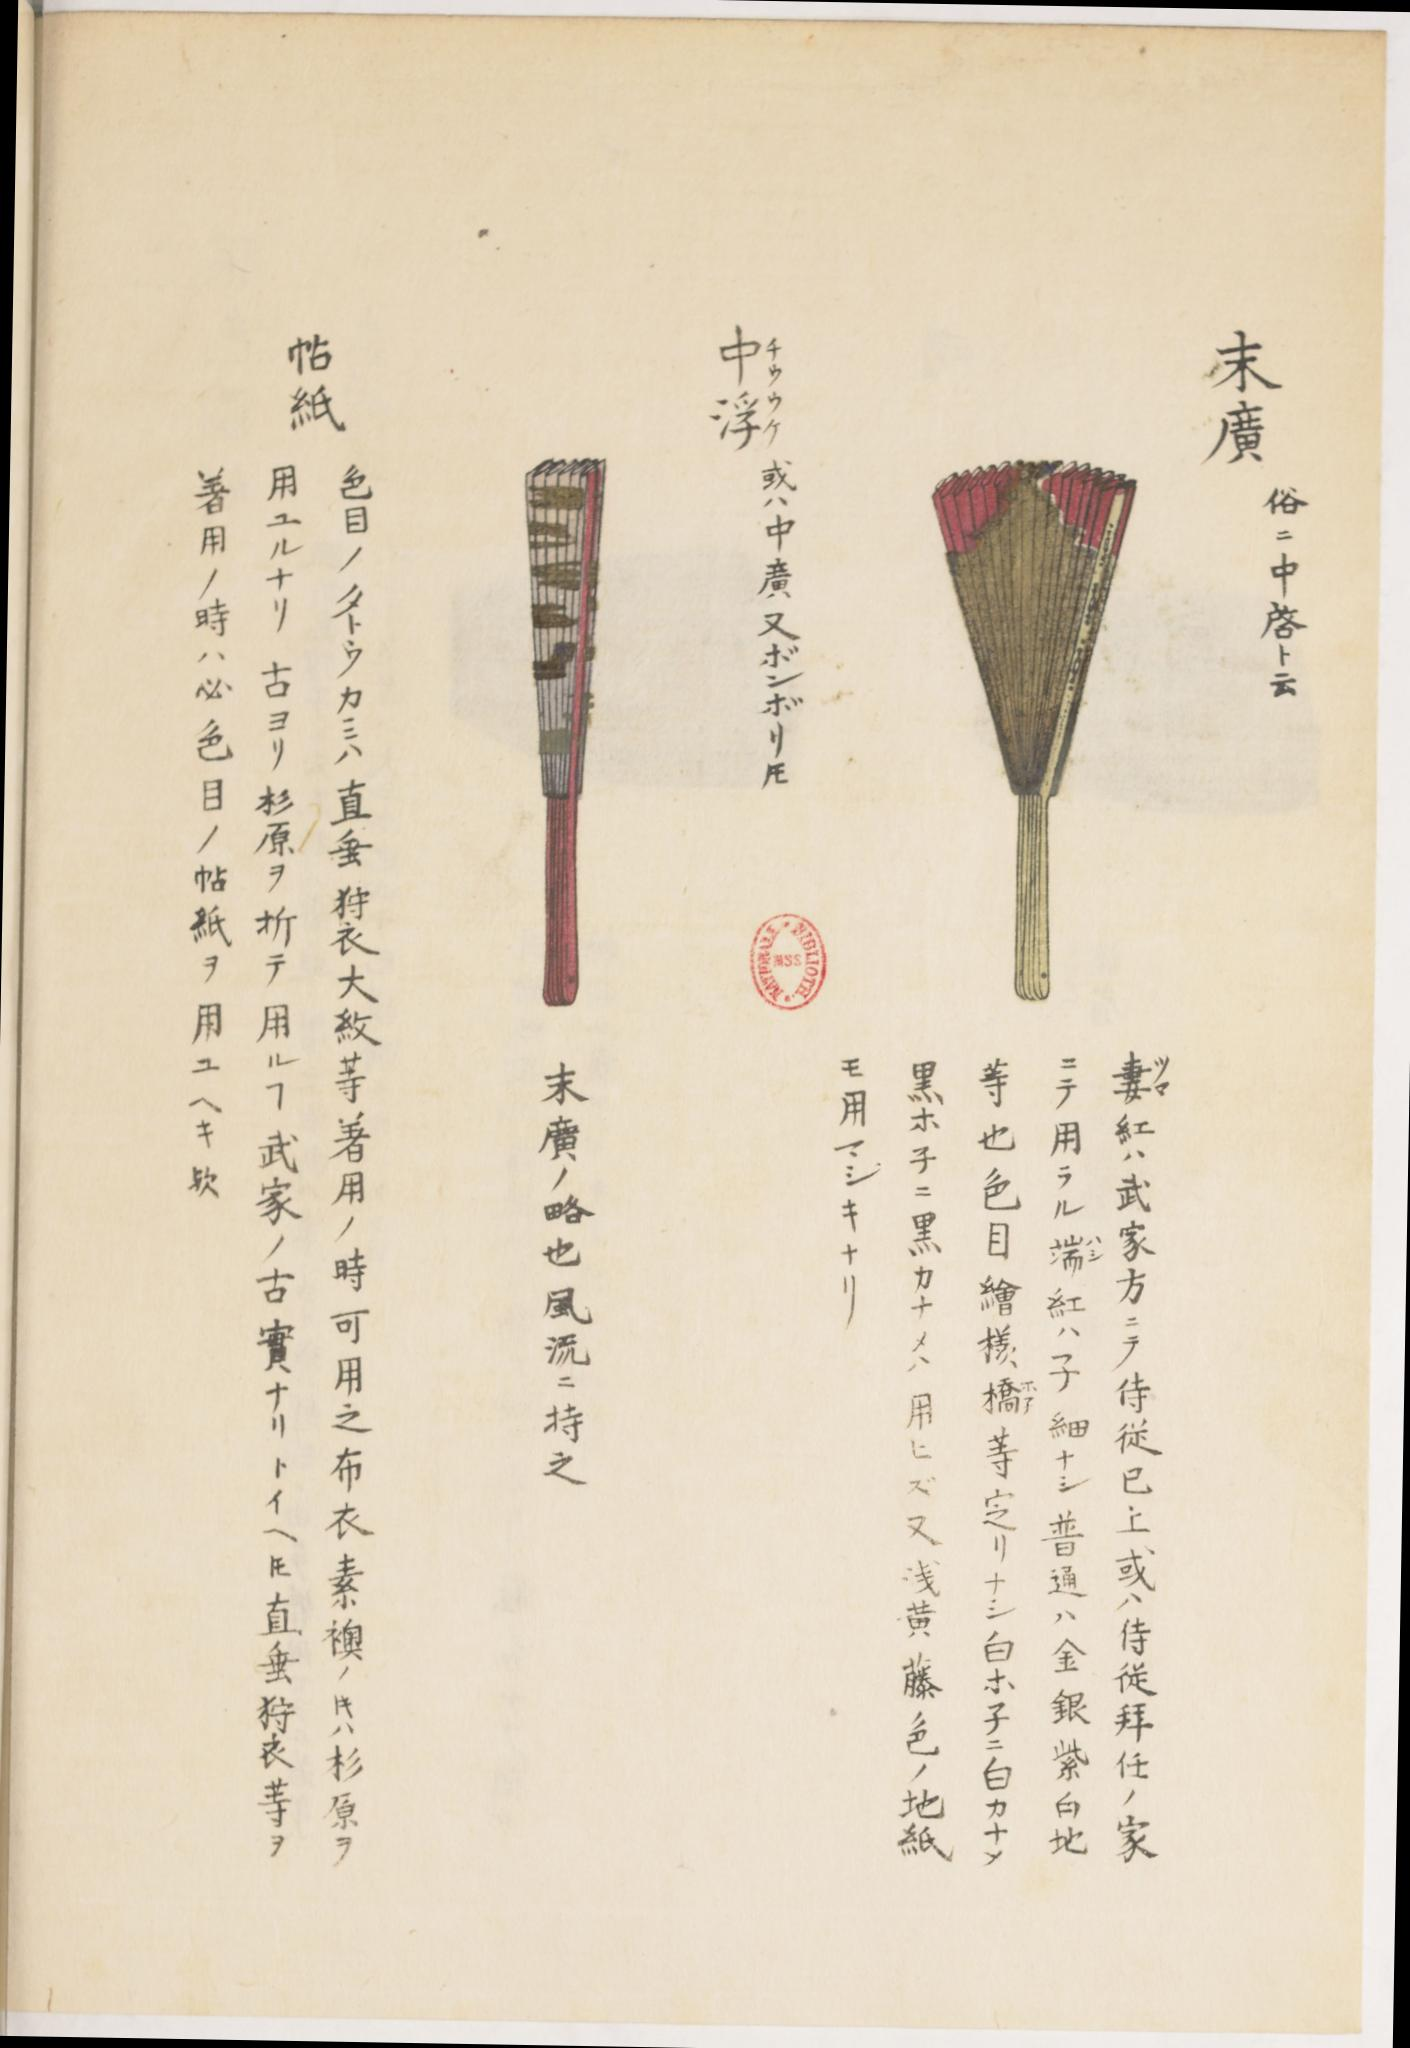MainZone-Character: (703, 381, 794, 451), (711, 319, 786, 383), (1102, 1046, 1172, 1105), (1044, 1225, 1110, 1279), (977, 1368, 1043, 1418)
MainZone-Ruby: (758, 386, 789, 448), (1150, 1050, 1172, 1102), (763, 333, 784, 381), (1021, 1374, 1040, 1415), (1086, 1233, 1103, 1262)
